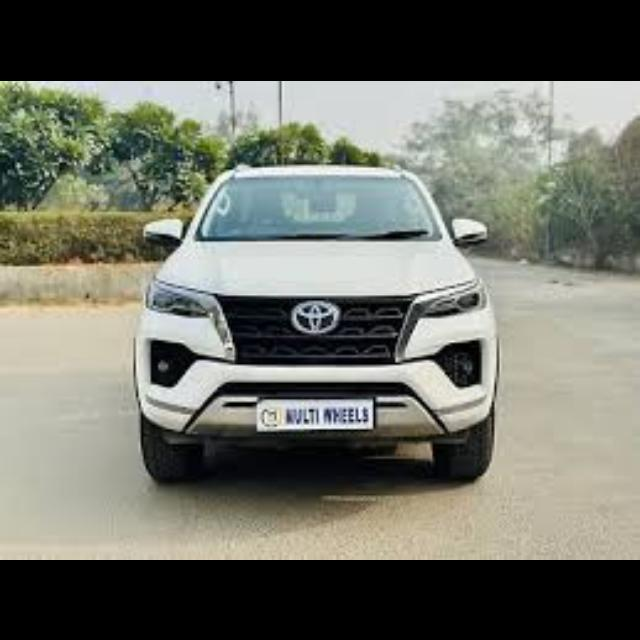vehicles: (119, 162, 514, 490)
